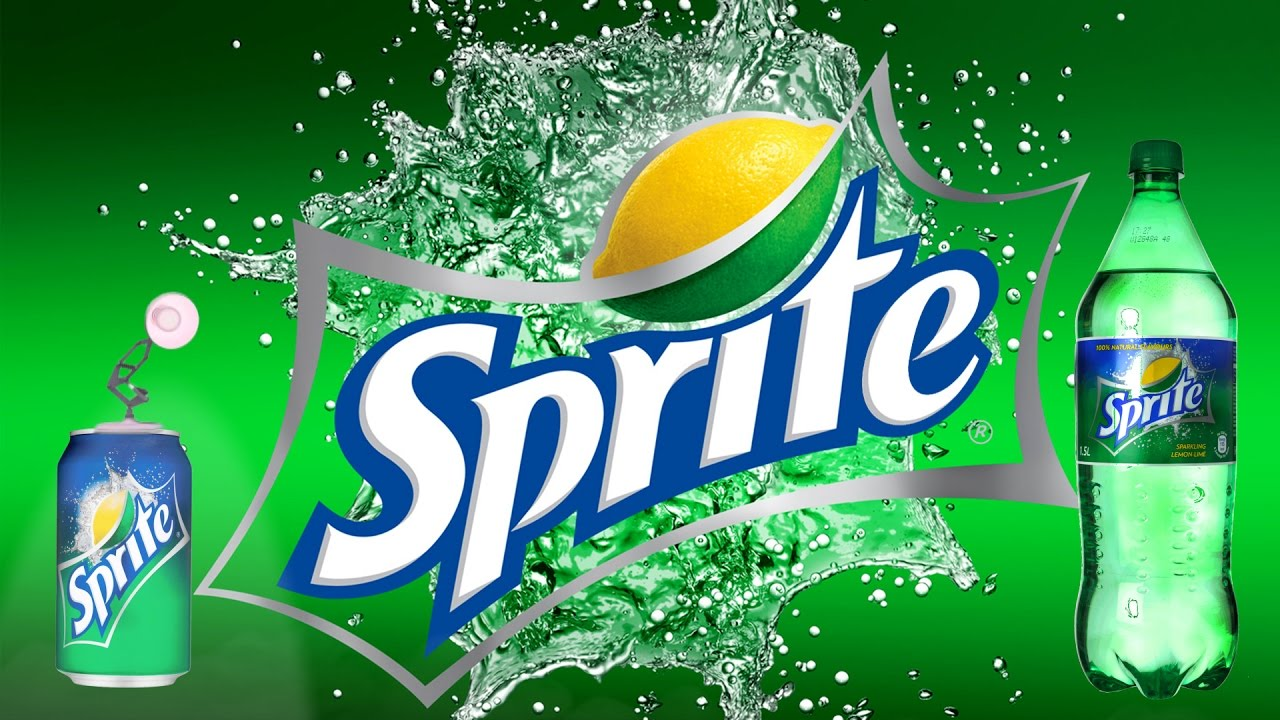sprite: (308, 184, 978, 610), (313, 184, 978, 605)
